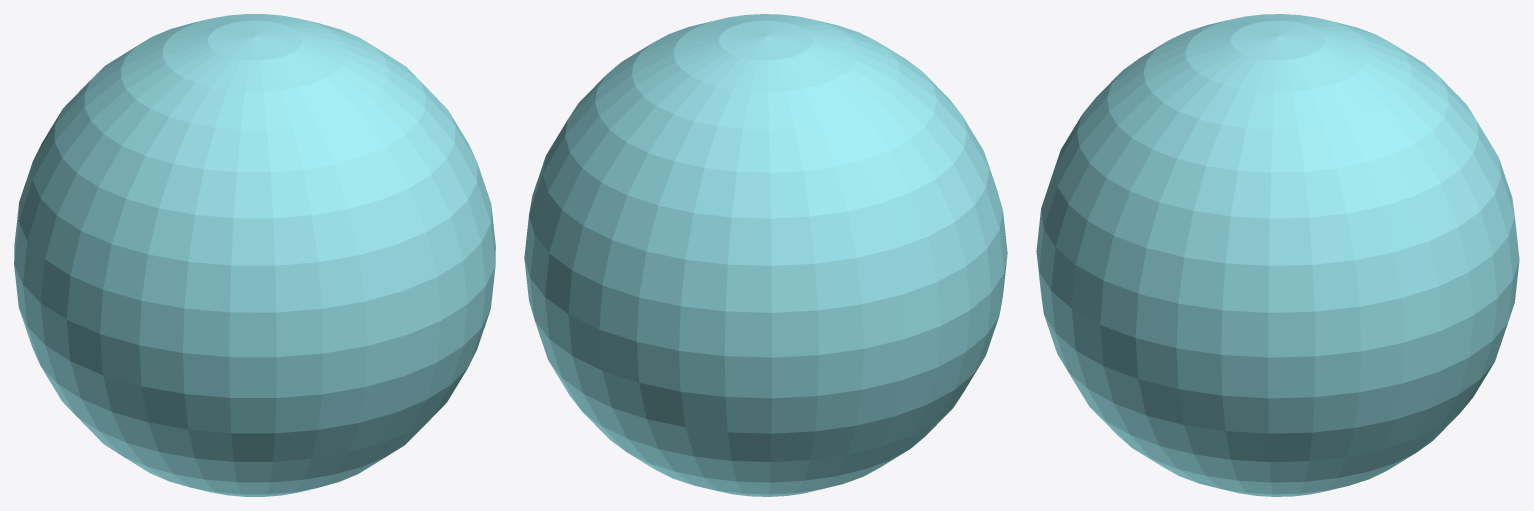
Rendered from Sphere_result3.glb.
3 views of the same model, side by side, from view 1: azimuth 30°, elevation 25°; view 2: azimuth 150°, elevation 25°; view 3: azimuth 270°, elevation 25° (orthographic).
Size of the model in its own units: 2 by 2 by 2.
